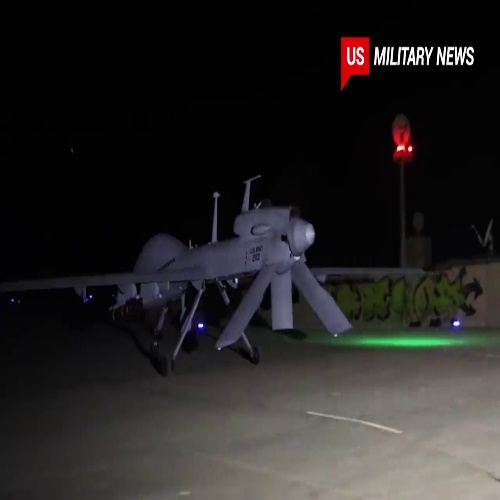uav429: (15, 174, 427, 363)
